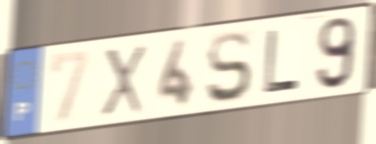4: (155, 36, 195, 111)
7: (47, 46, 95, 128)
9: (313, 14, 359, 92)
L: (261, 27, 302, 98)
S: (204, 28, 254, 107)
X: (99, 42, 148, 120)
